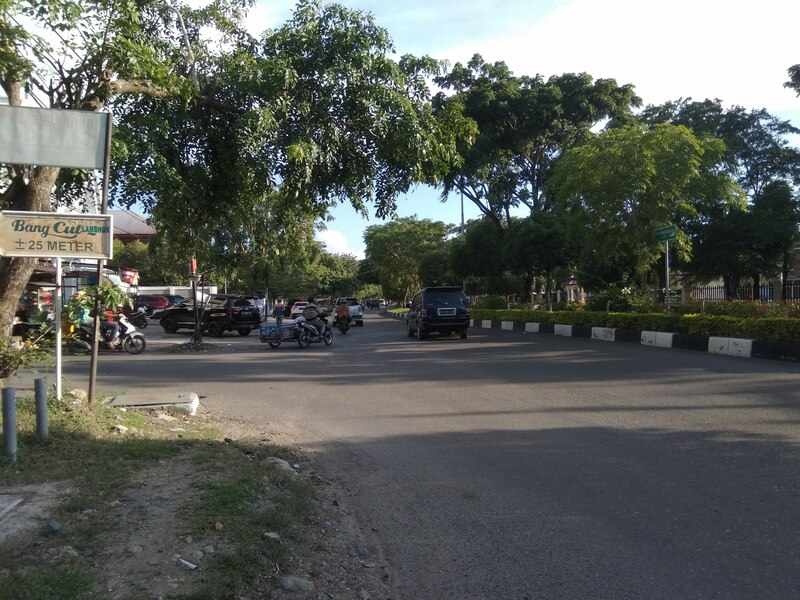becak barang: (259, 311, 335, 356)
car: (158, 291, 262, 340), (404, 284, 477, 345), (68, 312, 152, 357)
motorcycle: (335, 310, 352, 335)
